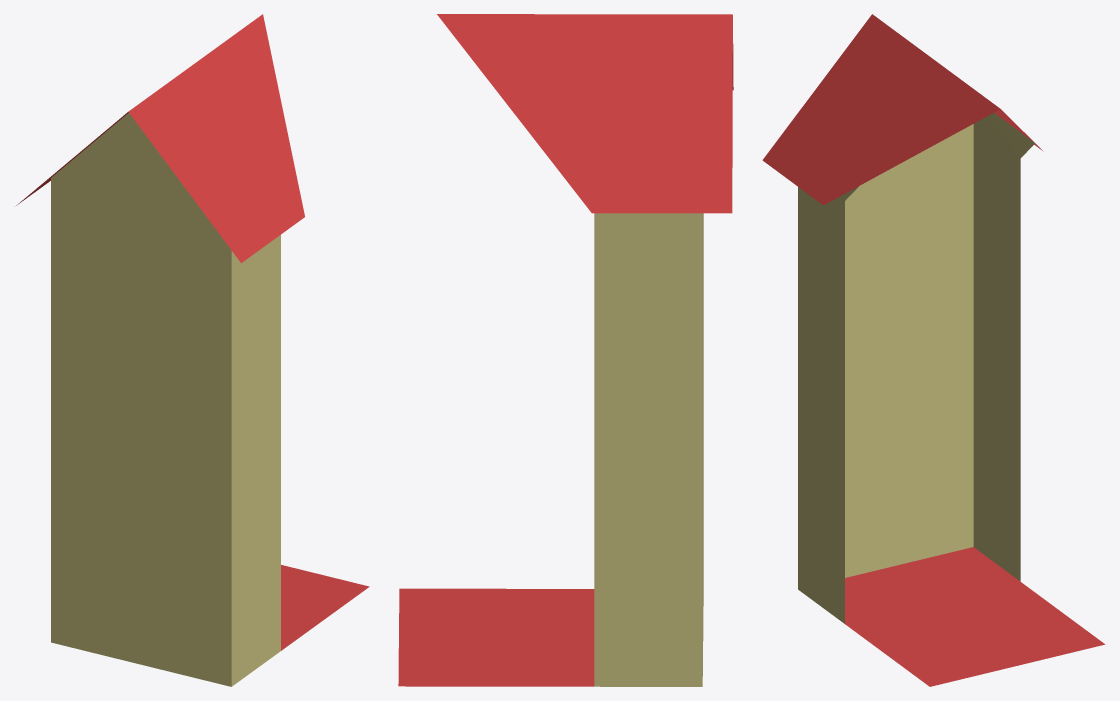
3 views of the same model, side by side, from view 1: azimuth 30°, elevation 25°; view 2: azimuth 150°, elevation 25°; view 3: azimuth 270°, elevation 25° (orthographic). The views are drawn at different scales.
Bounding box in the file's own units: 10.57 × 9.89 × 17.33.
